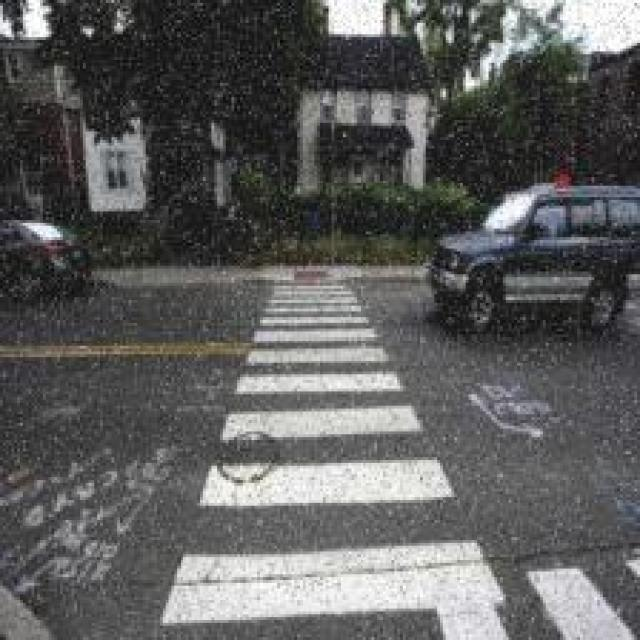crosswalk: (157, 280, 514, 630)
